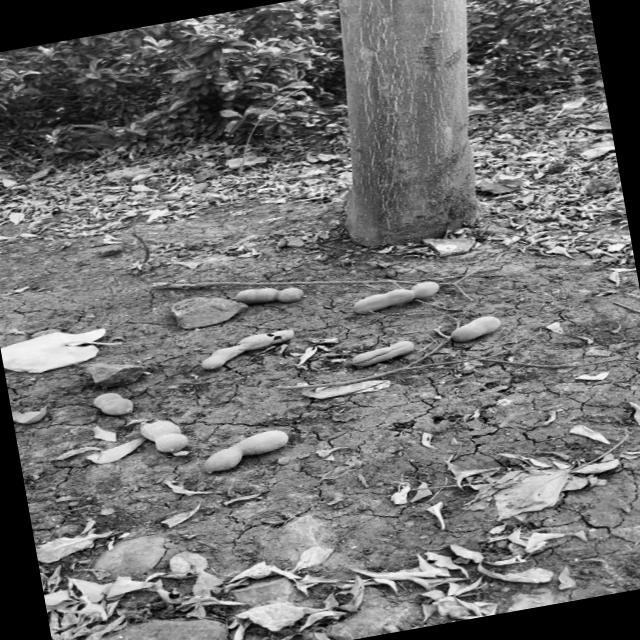tamarind: (195, 422, 306, 476), (188, 326, 302, 374), (348, 276, 444, 318), (128, 416, 194, 460), (340, 336, 419, 371), (232, 276, 308, 310), (90, 385, 144, 420), (451, 312, 502, 344)
